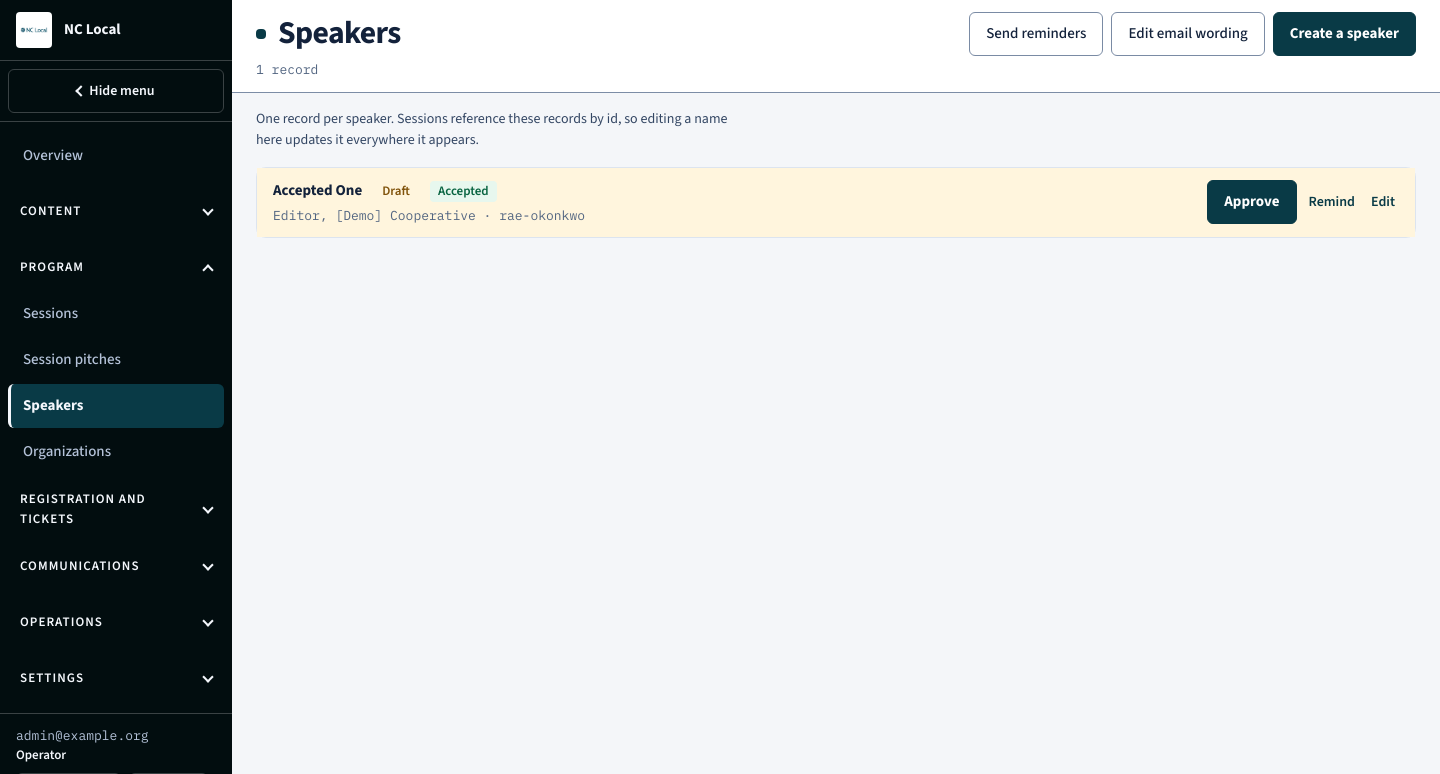
Scenario: invite actions › offers Approve for an accepted speaker — the last step of the pipeline
The width and height of the screenshot is (1440, 774).
What coordinates should you click on to do the following:
click the button "Approve"
I would click on:
 (1252, 202)
Its box is [1207,180,1296,224].
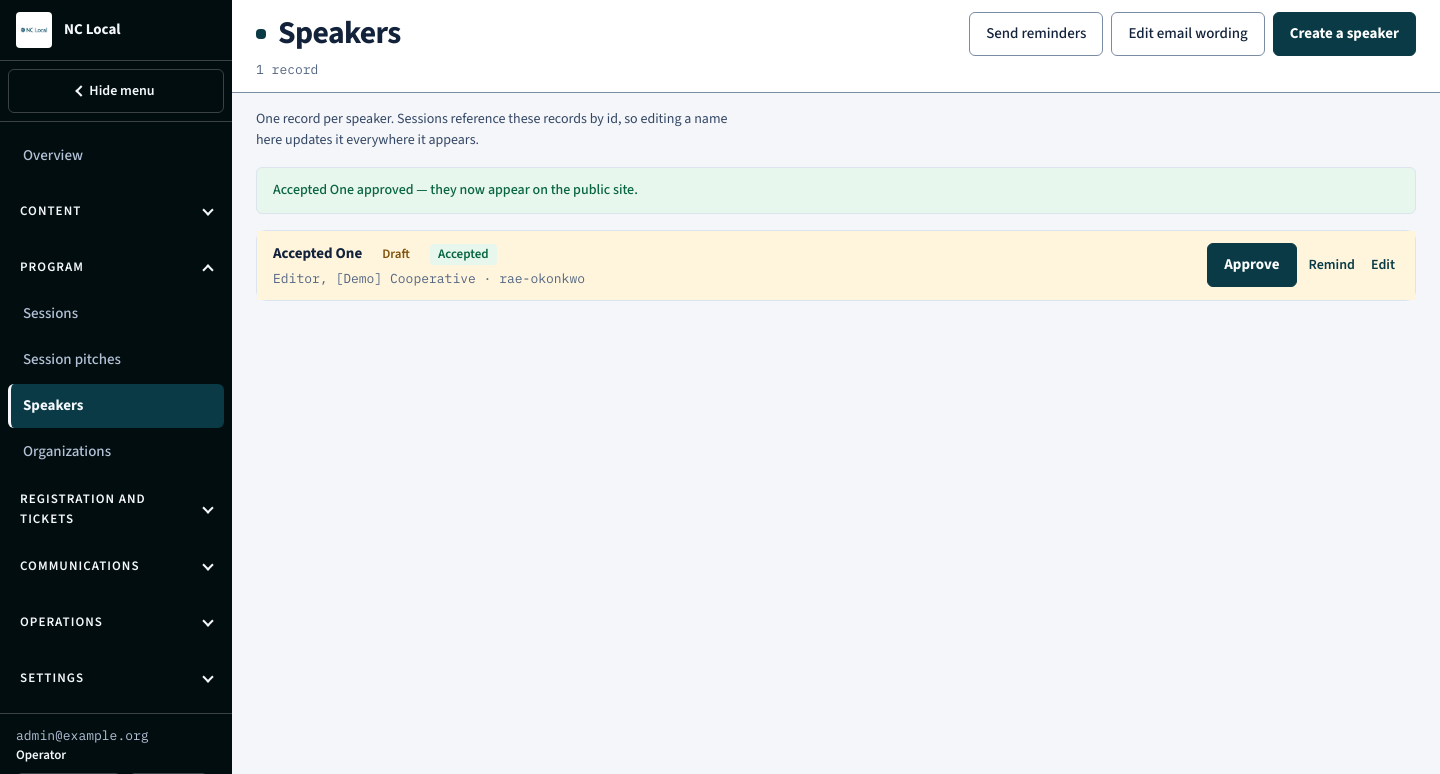
Result: the text "Accepted One approved — they now appear on the public site." is shown at [256,166,1416,214]
